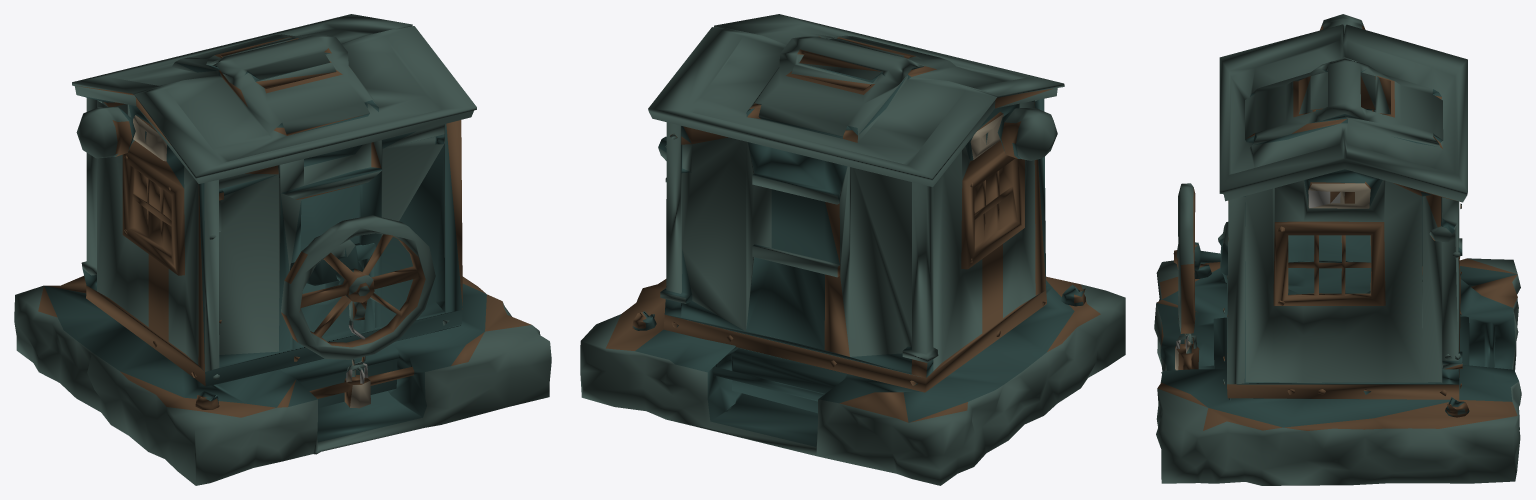
Rendered from gate_wheelhouse_a_lod1_tripo.glb.
3 renders of one model, left to right at view 1: azimuth 30°, elevation 25°; view 2: azimuth 150°, elevation 25°; view 3: azimuth 270°, elevation 25°, orthographic. The views are drawn at different scales.
Parts seen in each view (by area): view 1: Surface.001; view 2: Surface.001; view 3: Surface.001.
Part boxes in pixels (x1,y1,x2,y2): Surface.001: (14, 14, 551, 485); Surface.001: (580, 14, 1125, 485); Surface.001: (1154, 14, 1521, 485).
Size of the model in its own units: 7.09 by 5.71 by 5.98.
